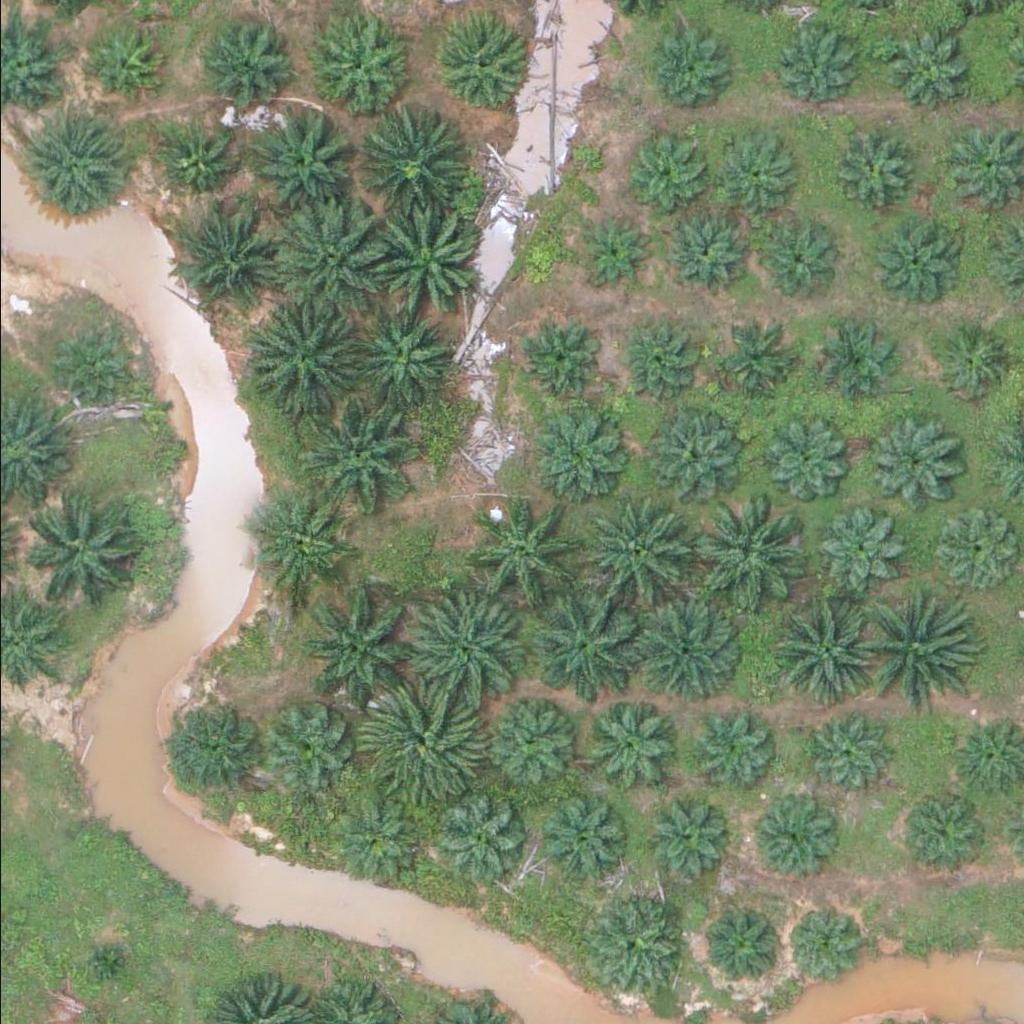Kelapa_Sawit: (245, 298, 359, 411), (630, 587, 744, 700), (28, 495, 141, 608), (367, 686, 480, 799), (854, 594, 967, 707), (533, 591, 646, 704), (350, 105, 463, 218), (405, 598, 519, 710), (304, 587, 417, 699), (304, 398, 417, 510), (271, 206, 384, 318), (761, 592, 874, 704), (467, 499, 580, 611), (576, 499, 689, 611), (688, 495, 801, 607), (367, 205, 480, 317), (253, 106, 354, 206), (587, 895, 688, 995), (526, 787, 627, 887), (633, 404, 734, 504), (352, 305, 453, 405), (165, 697, 265, 797), (244, 494, 344, 594), (179, 204, 279, 304), (19, 114, 119, 214), (311, 17, 411, 117), (481, 697, 581, 797), (577, 701, 677, 801), (528, 403, 628, 503), (426, 15, 526, 115), (270, 701, 358, 789), (44, 317, 132, 405), (206, 14, 294, 102), (896, 784, 984, 872), (335, 798, 423, 886), (686, 707, 774, 795), (860, 416, 948, 504), (759, 416, 847, 504), (879, 23, 967, 111), (777, 16, 865, 104), (829, 118, 917, 206), (874, 216, 962, 304), (511, 315, 599, 403), (928, 317, 1016, 405), (927, 506, 1015, 594), (800, 706, 888, 793), (743, 795, 831, 882), (697, 902, 785, 989), (427, 796, 515, 883), (648, 791, 736, 878), (642, 23, 730, 110), (625, 133, 713, 220), (710, 129, 798, 216), (749, 214, 837, 301), (665, 215, 753, 302), (621, 313, 709, 400), (718, 321, 806, 408), (815, 313, 903, 400), (814, 505, 902, 592), (580, 216, 656, 291), (87, 26, 163, 101), (782, 905, 858, 980), (162, 121, 237, 196), (84, 934, 135, 984)
